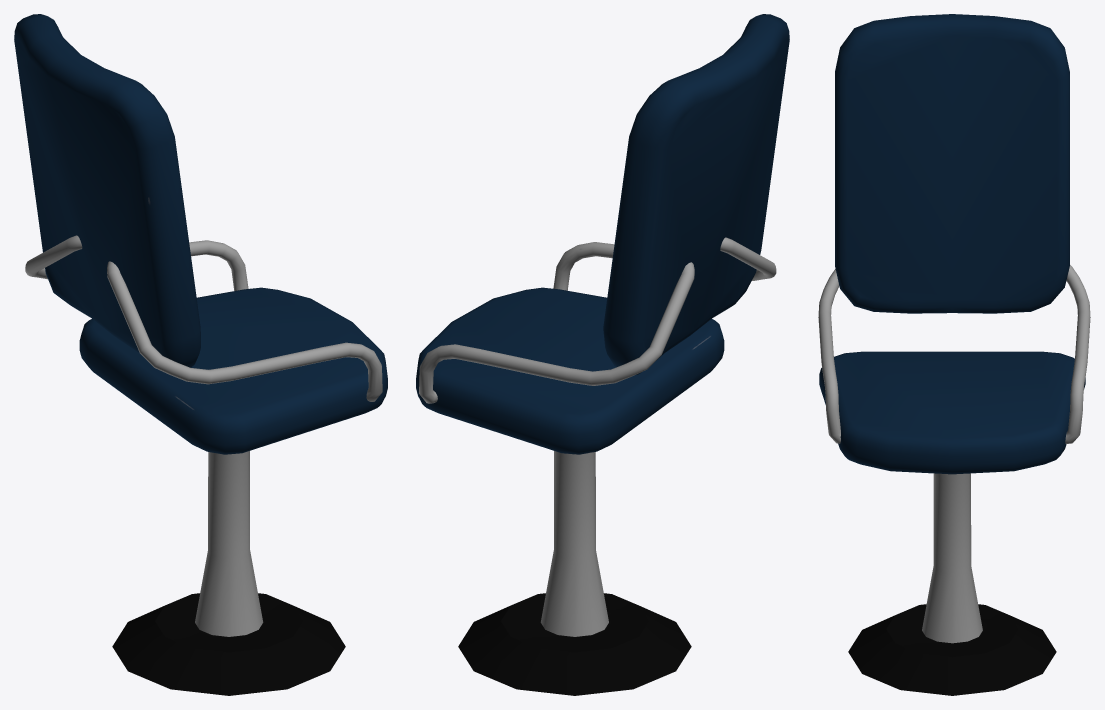
File: RS_seat.fbx
3 renders of one model, left to right at view 1: azimuth 30°, elevation 25°; view 2: azimuth 150°, elevation 25°; view 3: azimuth 270°, elevation 25°, orthographic. The views are drawn at different scales.
Visible parts, largest first — view 1: RS_seat; view 2: RS_seat; view 3: RS_seat.
Boxes of the visible parts, <box> form: RS_seat: <box>14,14,387,695</box>; RS_seat: <box>416,14,789,695</box>; RS_seat: <box>818,14,1090,695</box>.
Bounding box in the file's own units: 49.03 × 95.65 × 41.74.
